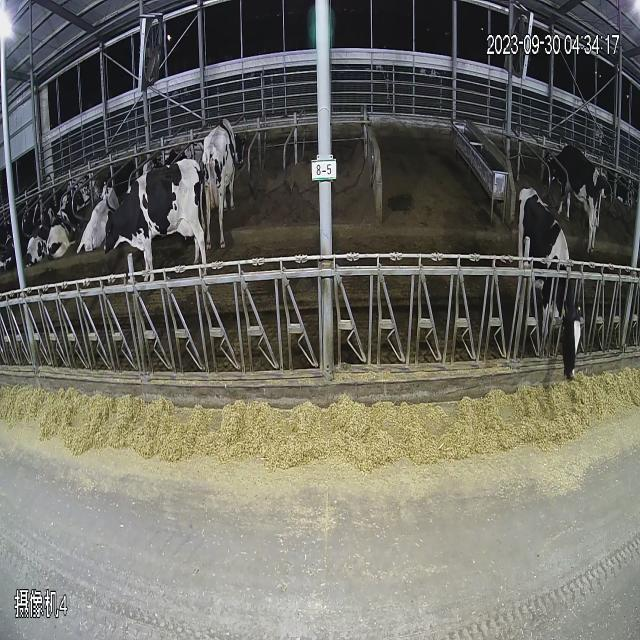feeding: (511, 174, 582, 415)
lying down: (1, 159, 51, 285), (14, 163, 62, 277), (52, 152, 92, 276), (606, 138, 640, 248), (85, 140, 113, 262), (155, 132, 205, 173), (100, 145, 134, 194)
